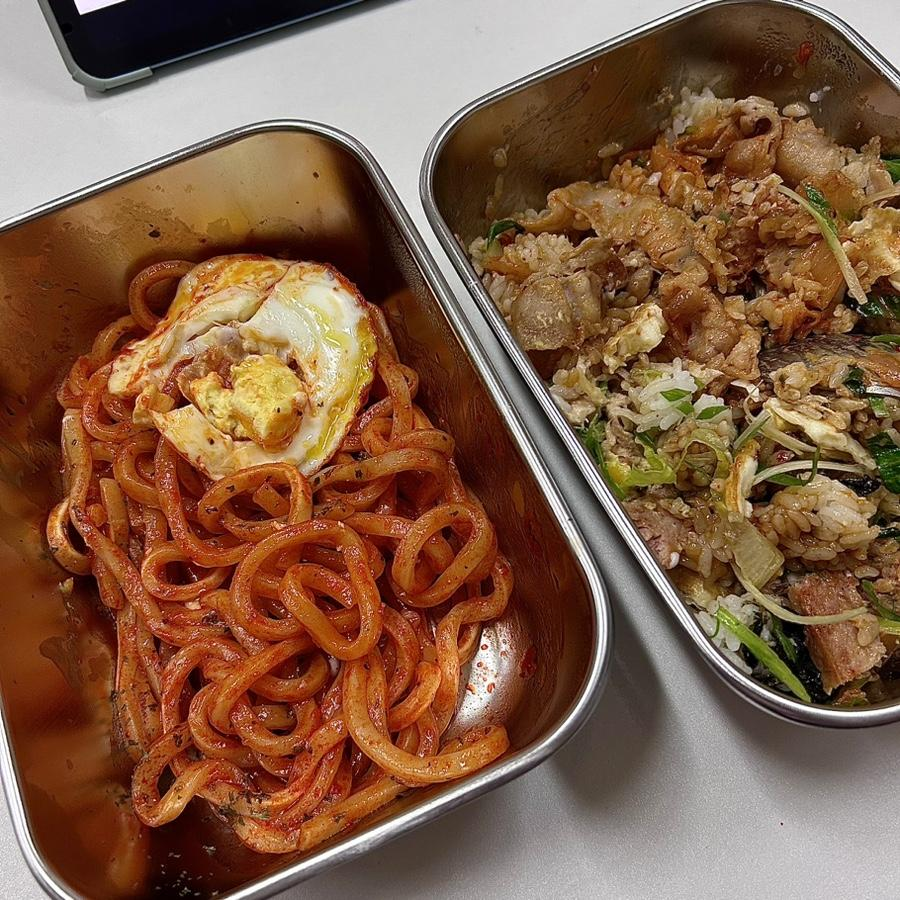Lunch Box: (0, 122, 611, 899), (420, 0, 899, 727)
